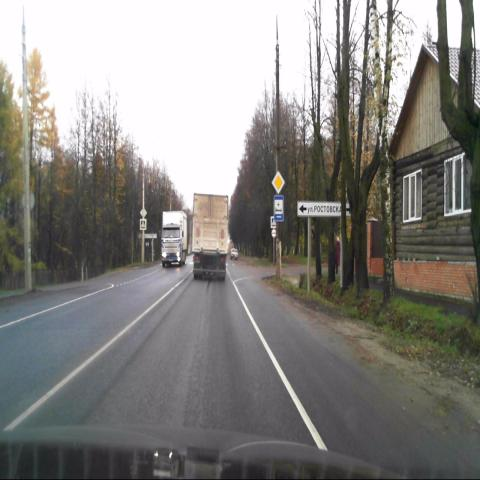7_2: (274, 196, 284, 221)
